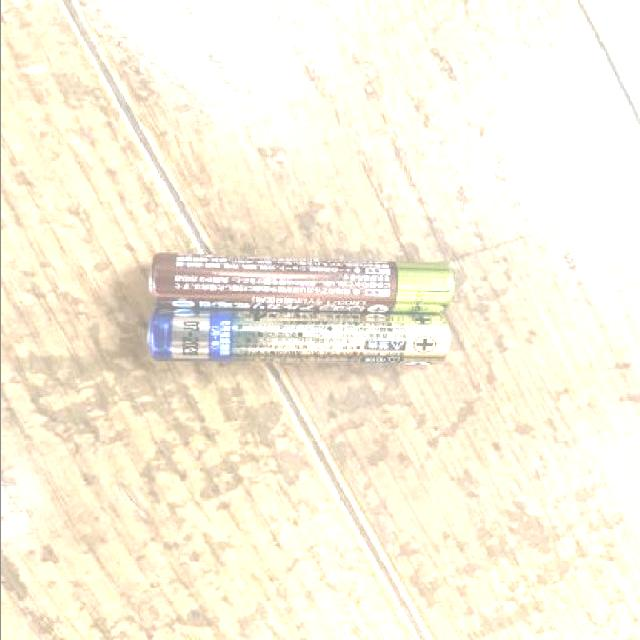AAA: (140, 250, 458, 316), (143, 306, 449, 374)
